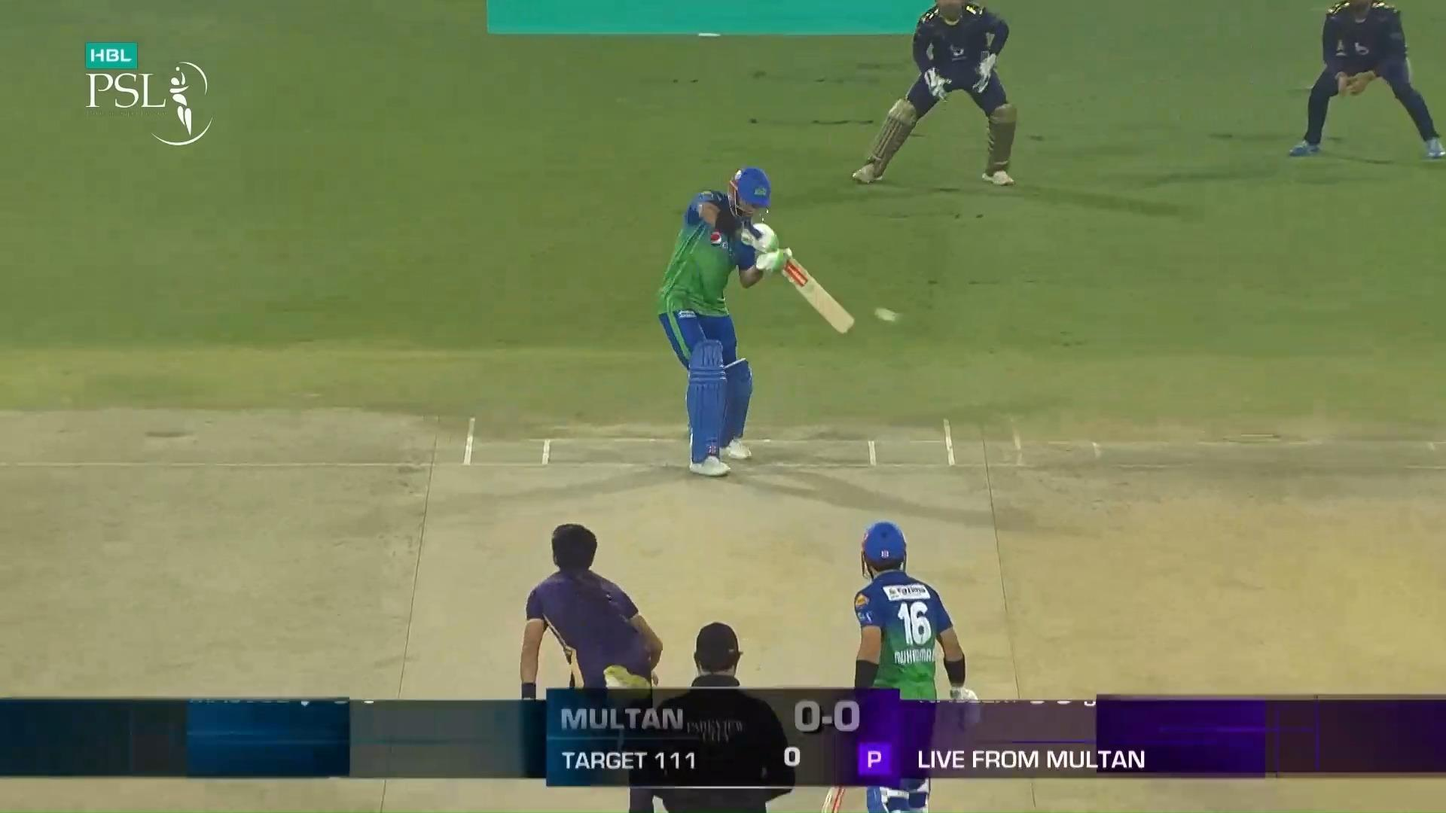batsman: (656, 166, 855, 480)
